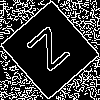Z: (25, 25, 79, 81)
